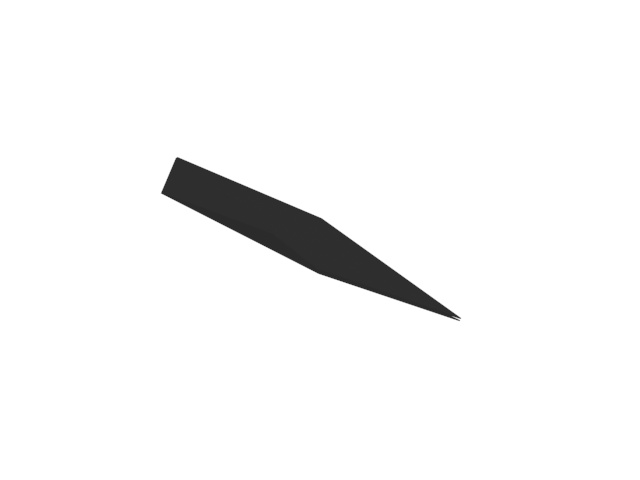ring_binder: (161, 153, 464, 328)
